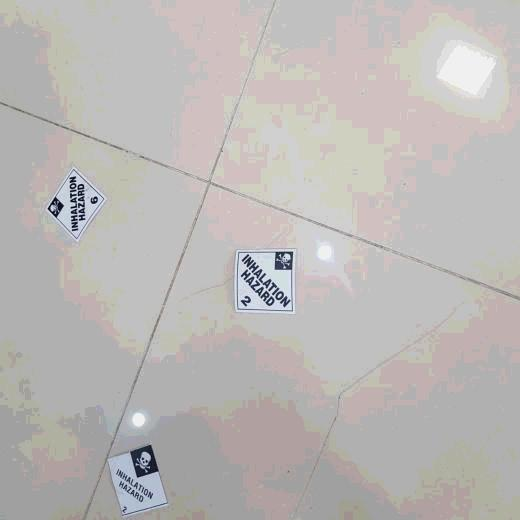poison: (106, 442, 171, 517), (46, 165, 106, 242), (235, 249, 296, 315)
